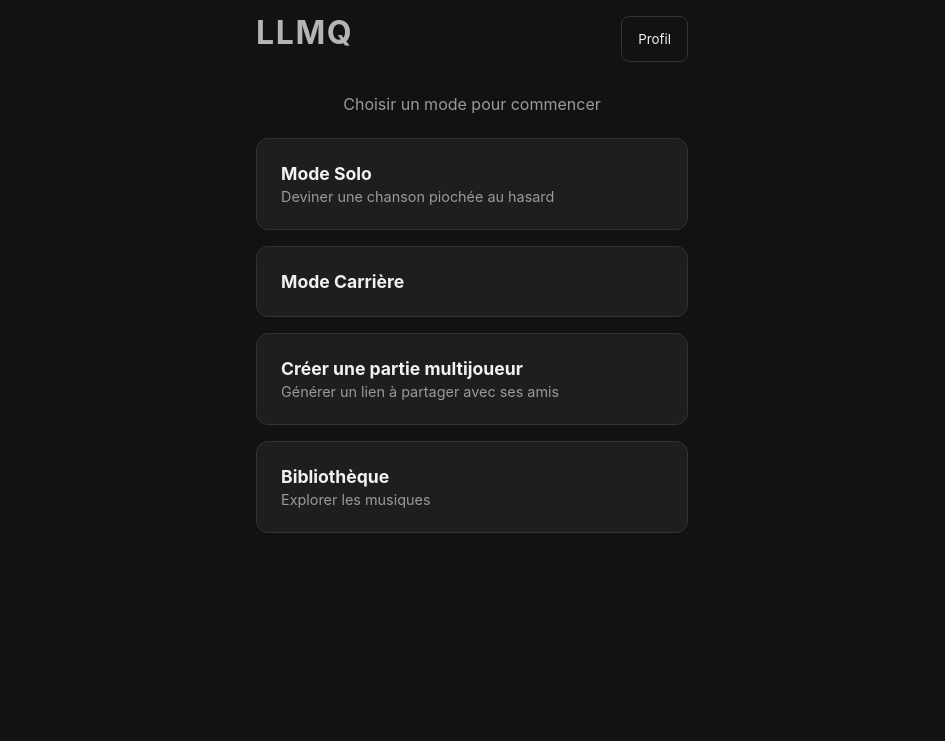
App — Mode Carrière › choosing Mode Carrière without a career offers the two difficulties
Click the button "Mode Carrière" at [343, 281], box [256,246,688,317]
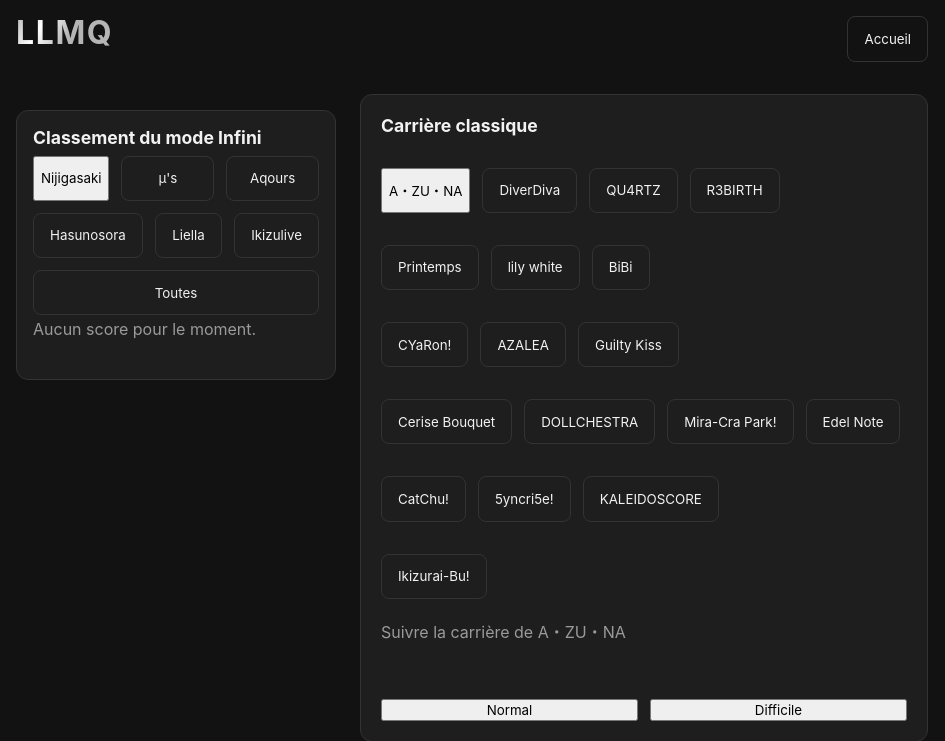
Check: the button "Normal" is shown, box [381,699,638,721]
Check: the button "Difficile" is shown, box [650,699,907,721]
